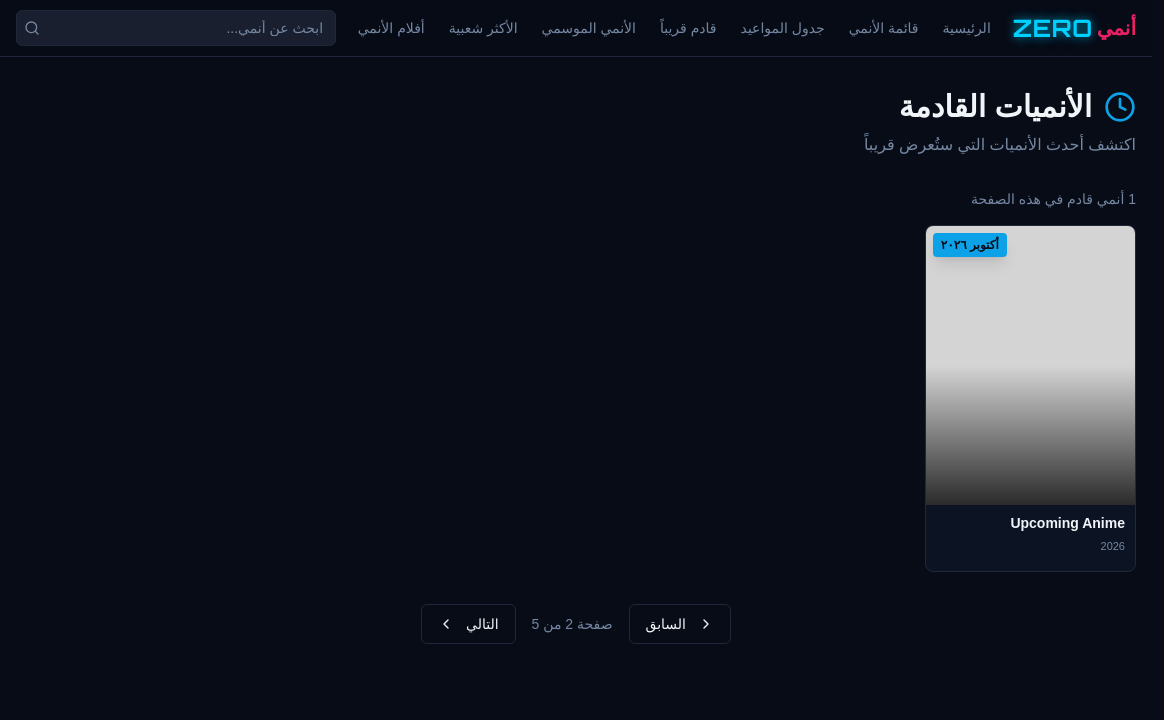
Upcoming › reads page from the URL and updates it when paging
Check: the text "صفحة 2 من 5" is shown, box [532,614,612,634]
Click the button "التالي". click: {"x": 468, "y": 624}
box: [421,604,516,644]
(page scrolled)
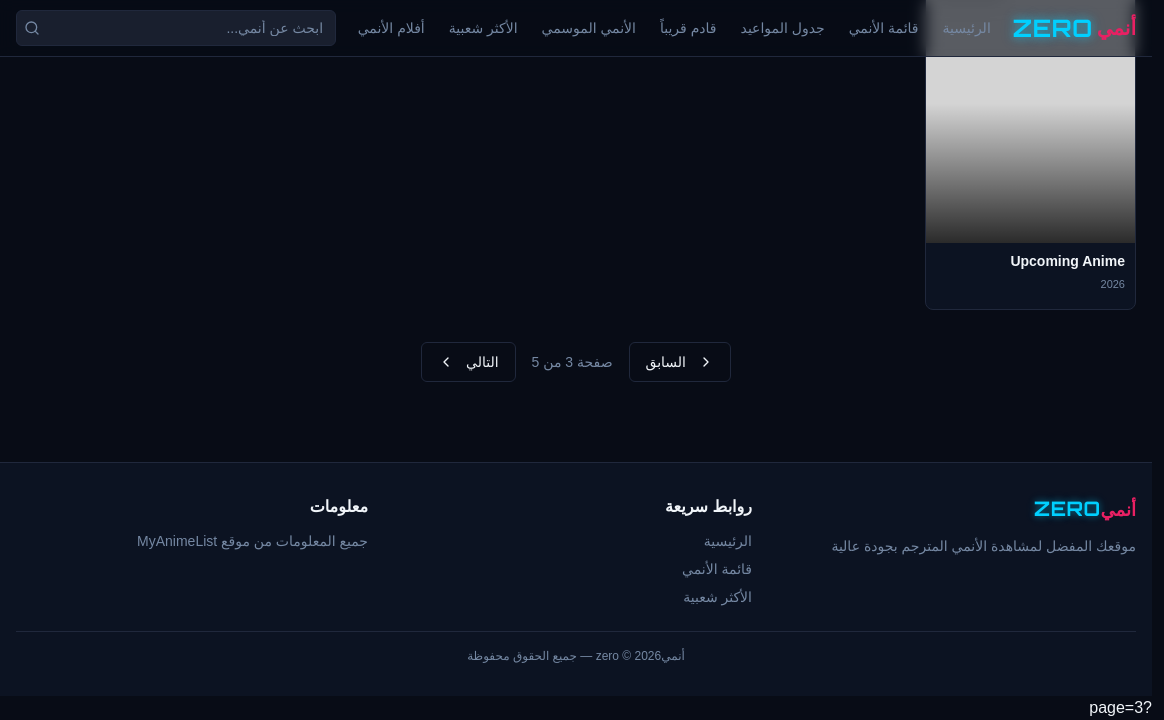
Check: the text with test id "location-search" reads "?page=3", box [1089,699,1152,716]
